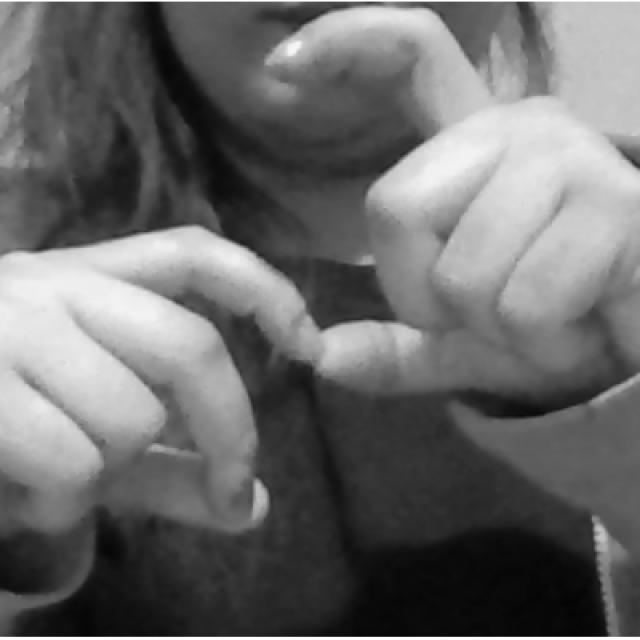S_: (1, 6, 640, 548)
